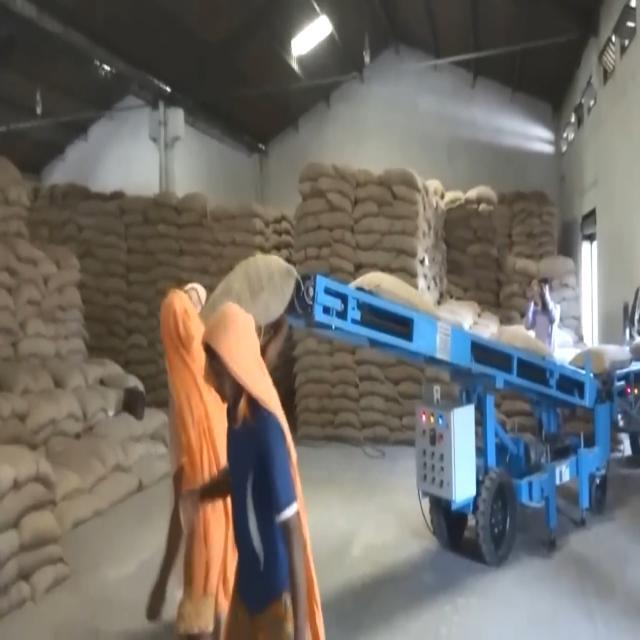gunny_bag: (203, 262, 300, 328), (353, 272, 438, 325), (477, 325, 550, 353)
